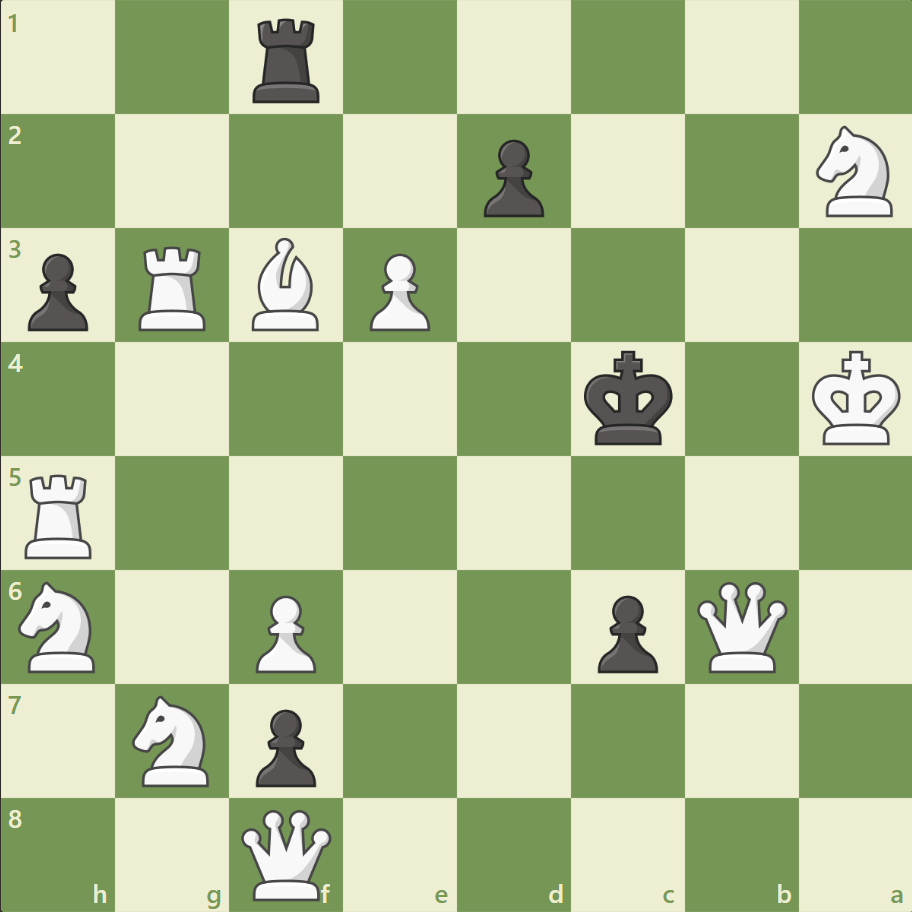B: (244, 233, 328, 336)
K: (806, 344, 906, 452)
N: (124, 688, 222, 791), (11, 575, 108, 677), (806, 121, 903, 223)
P: (247, 586, 322, 677), (361, 246, 435, 337)
Q: (691, 576, 790, 676), (237, 804, 336, 903)
R: (19, 466, 102, 563), (133, 239, 215, 336)
k: (579, 344, 679, 452)
p: (247, 700, 322, 791), (20, 246, 95, 337), (474, 132, 549, 223), (588, 586, 662, 677)
r: (246, 12, 329, 109)
